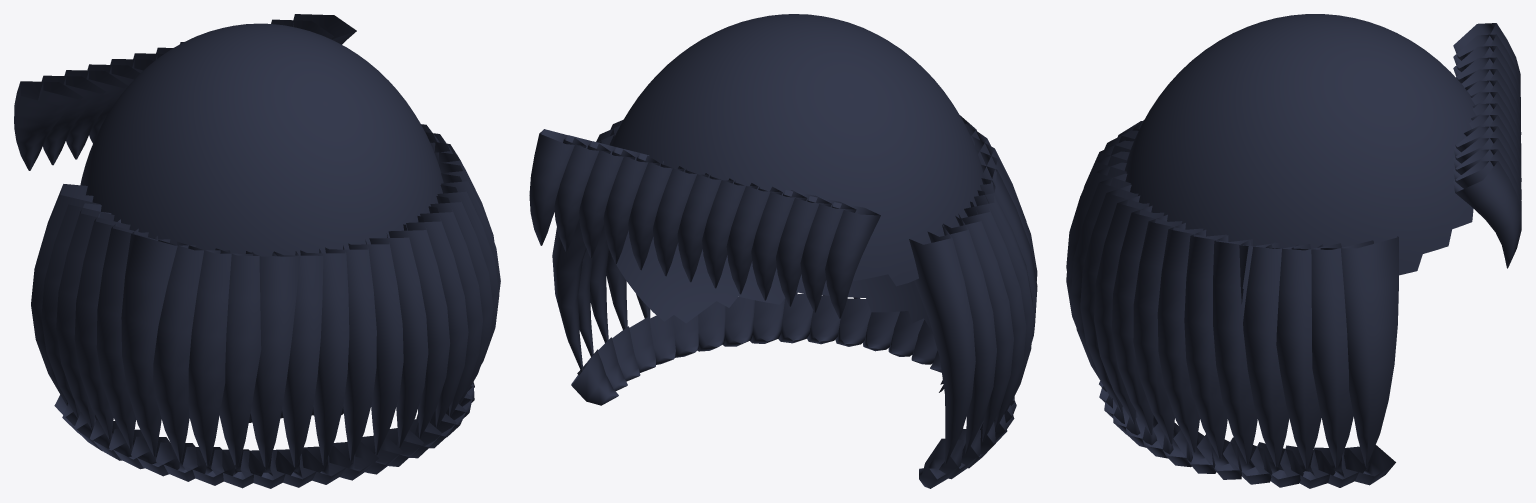
The model's file is anime_hair_lina.glb.
3 renders of one model, left to right at view 1: azimuth 30°, elevation 25°; view 2: azimuth 150°, elevation 25°; view 3: azimuth 270°, elevation 25°, orthographic. The views are drawn at different scales.
Parts seen in each view (by area): view 1: hair, hair_cap; view 2: hair, hair_cap; view 3: hair, hair_cap.
Boxes of the visible parts, left/top/right/bottom form: hair: left=14, top=14, right=500, bottom=488; hair_cap: left=80, top=23, right=443, bottom=422; hair: left=529, top=115, right=1037, bottom=488; hair_cap: left=611, top=14, right=983, bottom=392; hair: left=1066, top=23, right=1521, bottom=488; hair_cap: left=1124, top=14, right=1476, bottom=275.
Size of the model in its own units: 0.3597 by 0.3098 by 0.3386.
